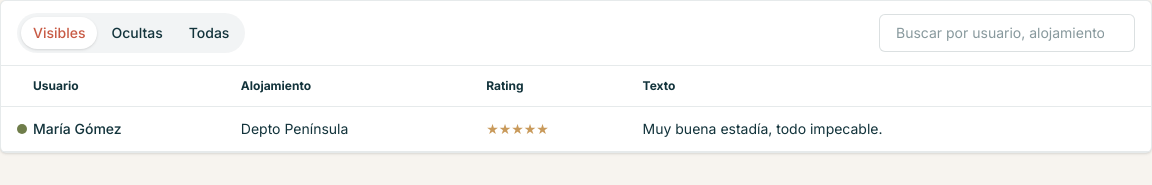
it: ResenasTable — filtros y búsqueda › una búsqueda sin coincidencias muestra el mensaje de 'ninguna coincide'
Type "zzzzz" into the search field named "Buscar reseñas".
click(1007, 33); type("zzzzz")  # box left=879, top=14, right=1135, bottom=52
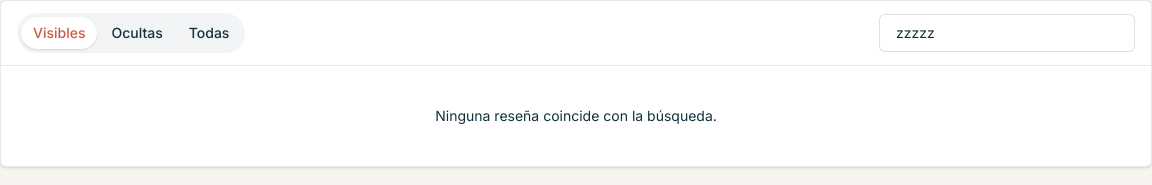
Result: the text "Ninguna reseña coincide con la búsqueda." is shown at left=435, top=107, right=717, bottom=124
